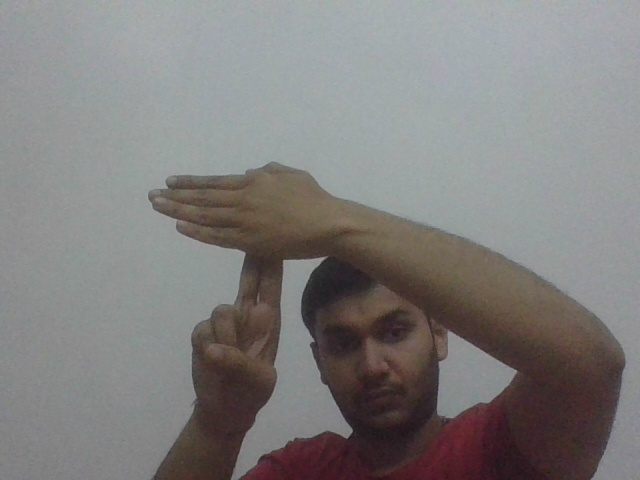N: (145, 160, 304, 304)
